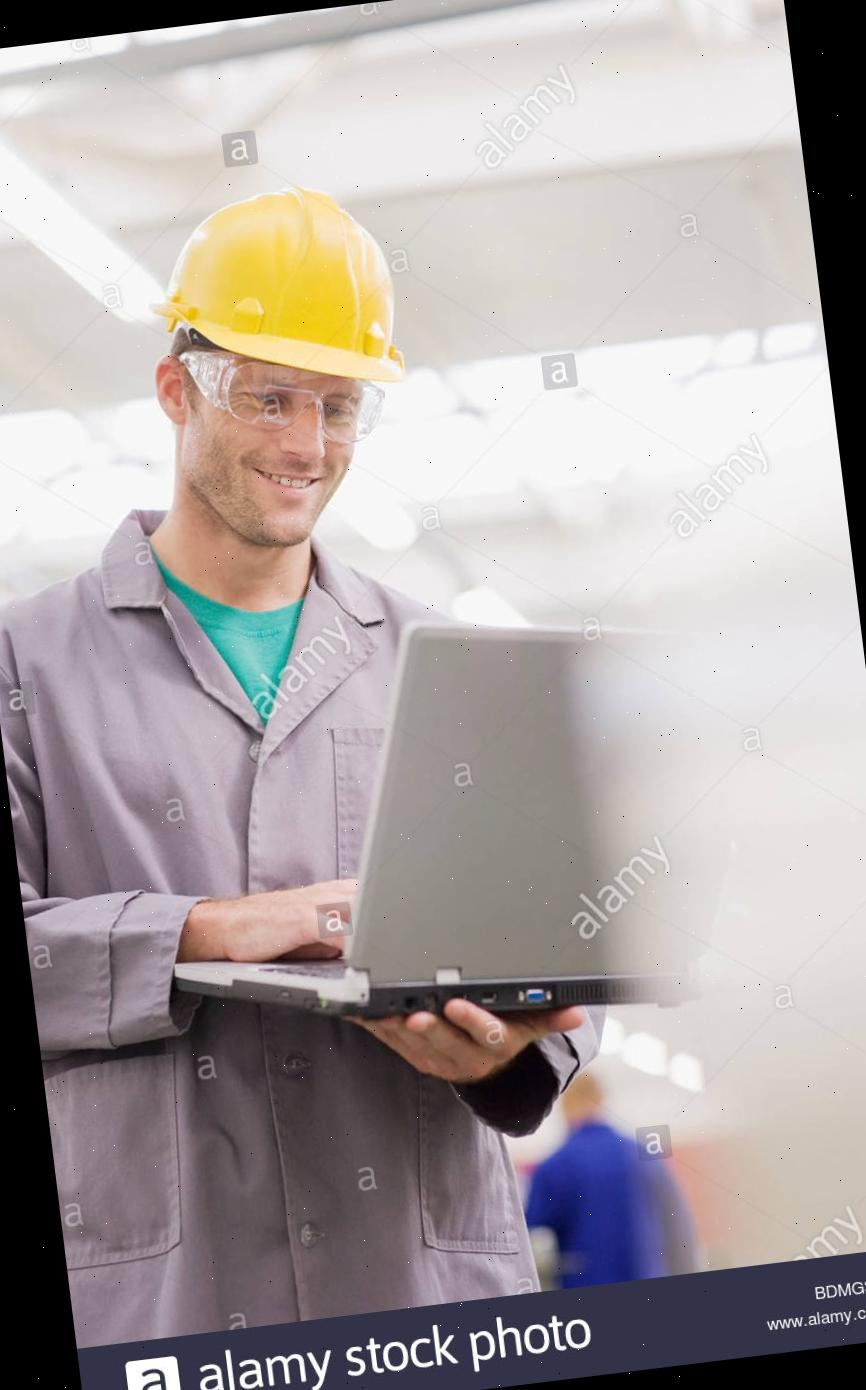helmet: (138, 175, 408, 412)
wear: (0, 538, 511, 1179)
